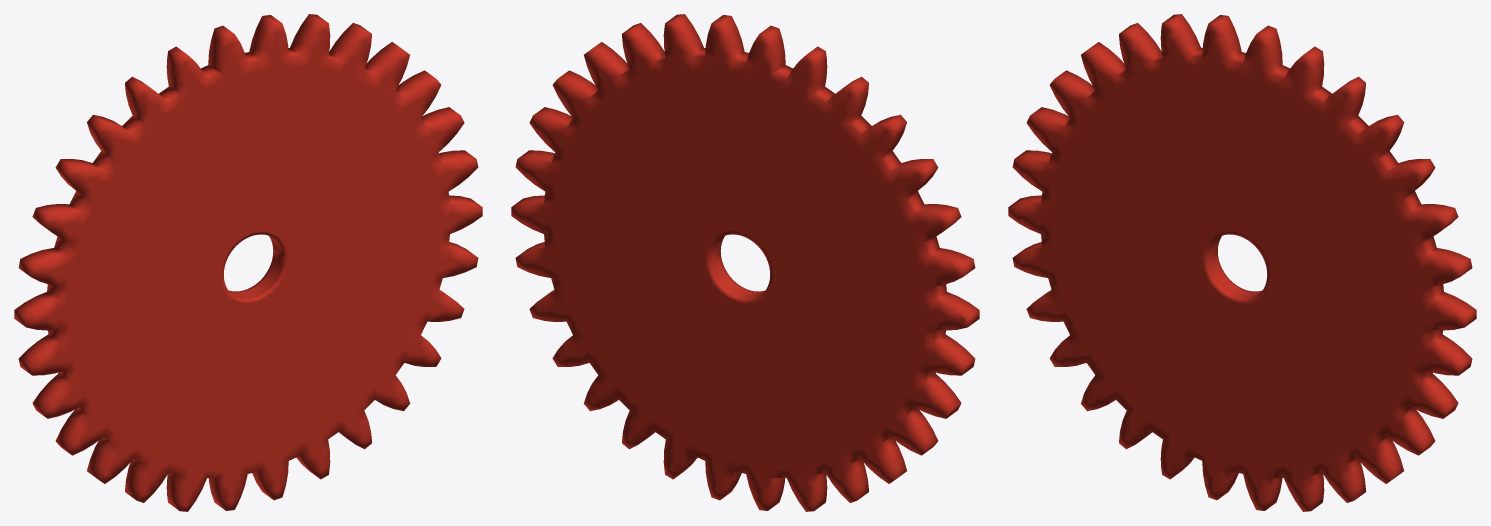
Rendered from gear.obj.
The picture shows the model from 3 angles, left to right: view 1: azimuth 30°, elevation 25°; view 2: azimuth 150°, elevation 25°; view 3: azimuth 330°, elevation 25°; orthographic projection.
Size of the model in its own units: 0.112 by 0.1116 by 0.005.
